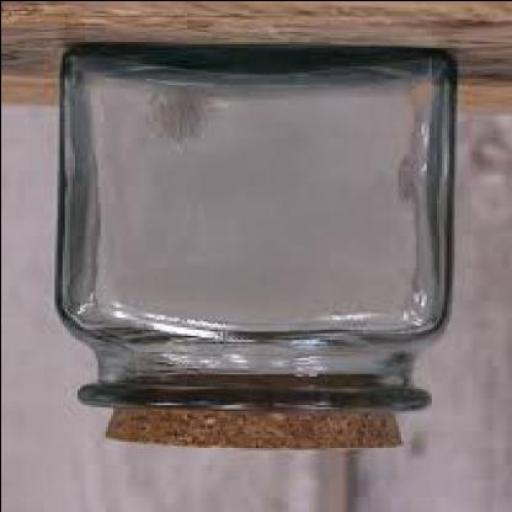glass: (54, 45, 458, 414)
